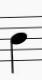note: (6, 13, 28, 76)
